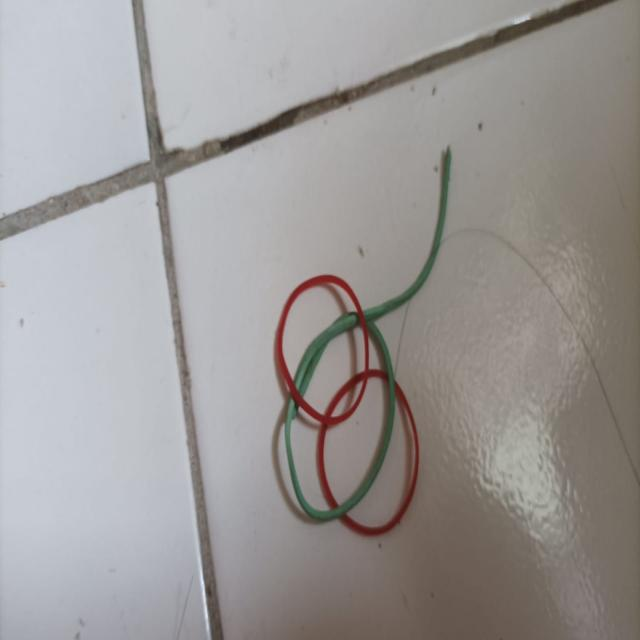Organik: (264, 136, 468, 548)
